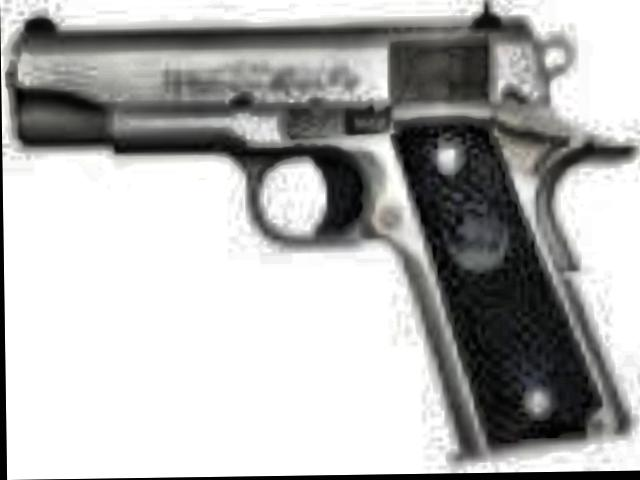pistol: (8, 1, 629, 464)
